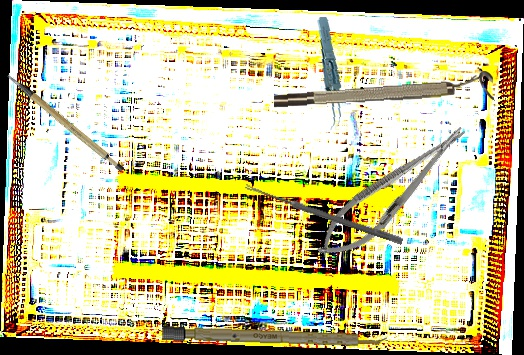Fixation Ring: (272, 70, 495, 112)
Needle Holder: (306, 113, 479, 272)
Scalpel Handle: (5, 56, 127, 187), (161, 326, 388, 348)
Surgical Spoon: (244, 183, 404, 245)
Tissue Forceps: (306, 16, 351, 131)
